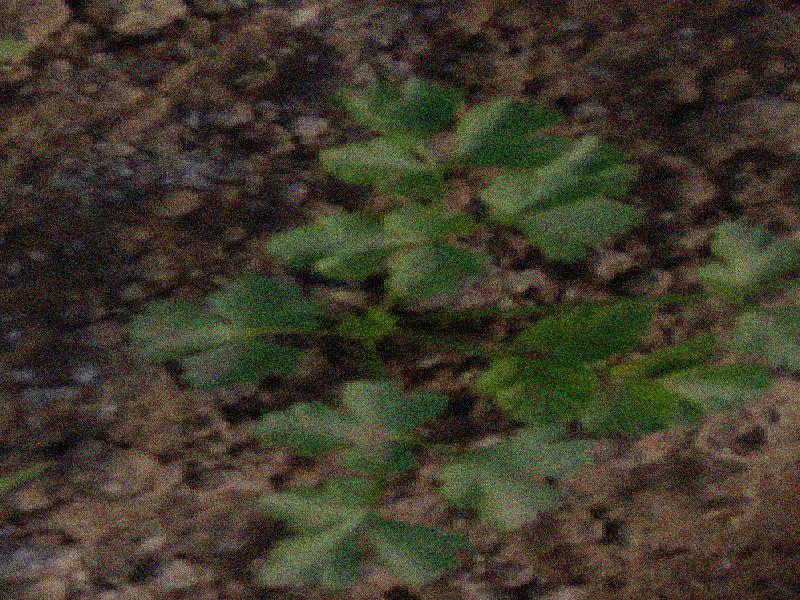radish: (130, 77, 800, 588)
